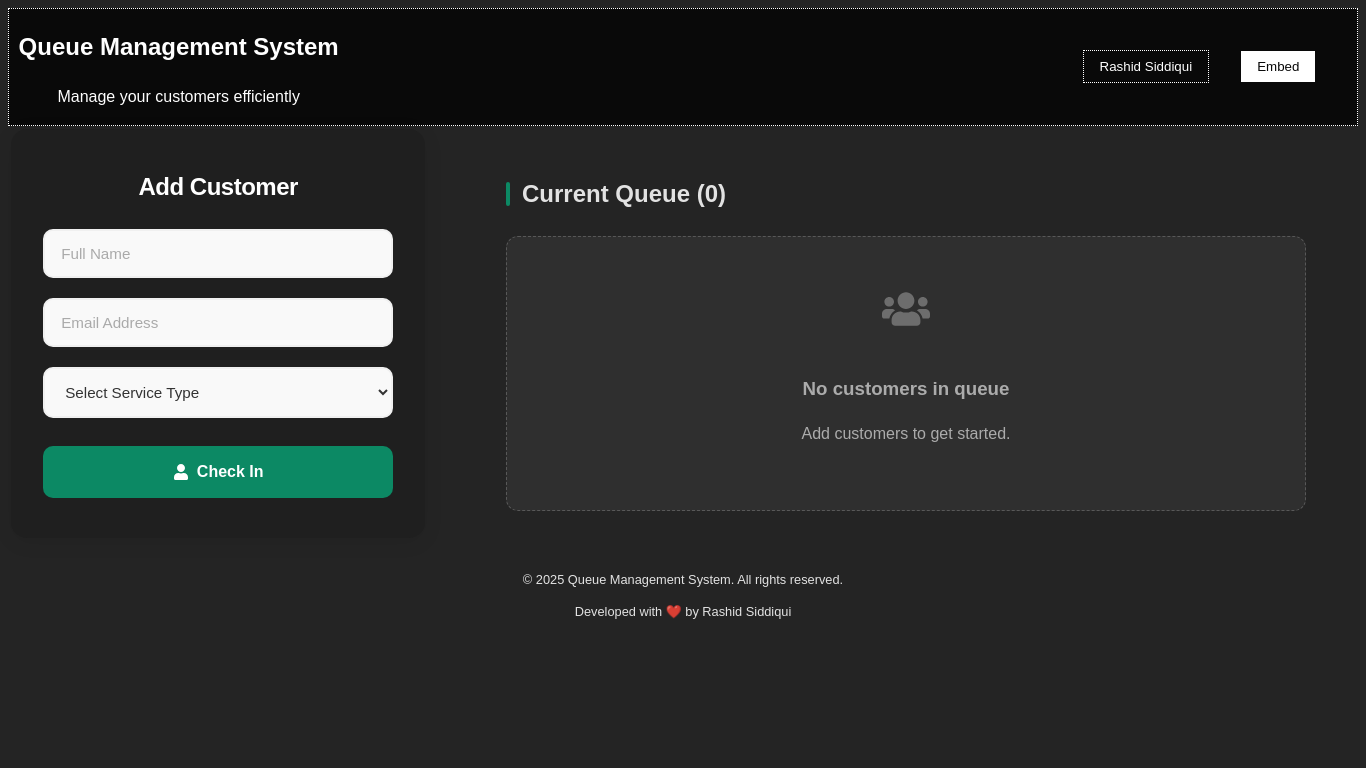
Scenario: Add Customer › should add multiple customers
Type "John Doe" into the field with test id "queue-form-name" at x=218, y=254, box 43,229 -> 393,278
Type "john.doe@example.com" into the field with test id "queue-form-email" at x=218, y=323, box 43,298 -> 393,347
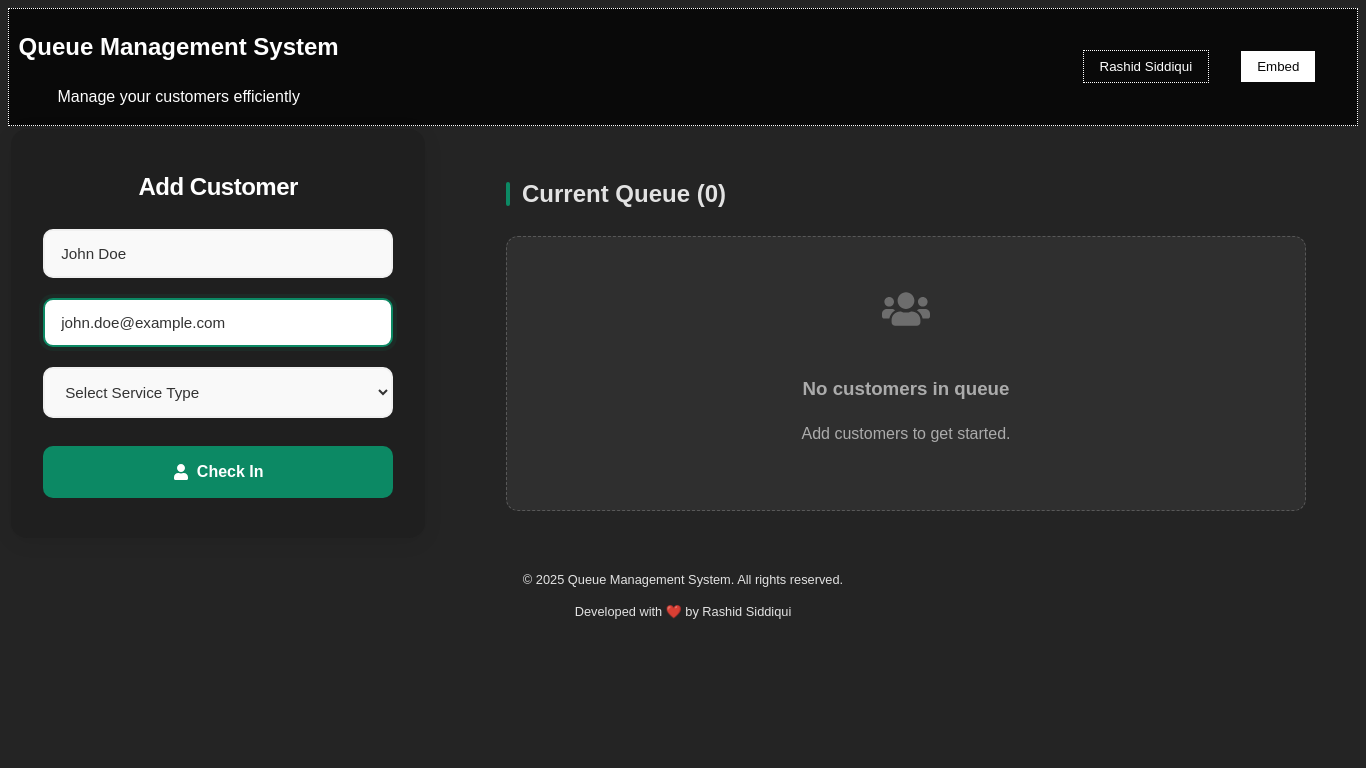
Select "Consultation" in the dropdown with test id "queue-form-service-type" at x=218, y=393, box 43,367 -> 393,418
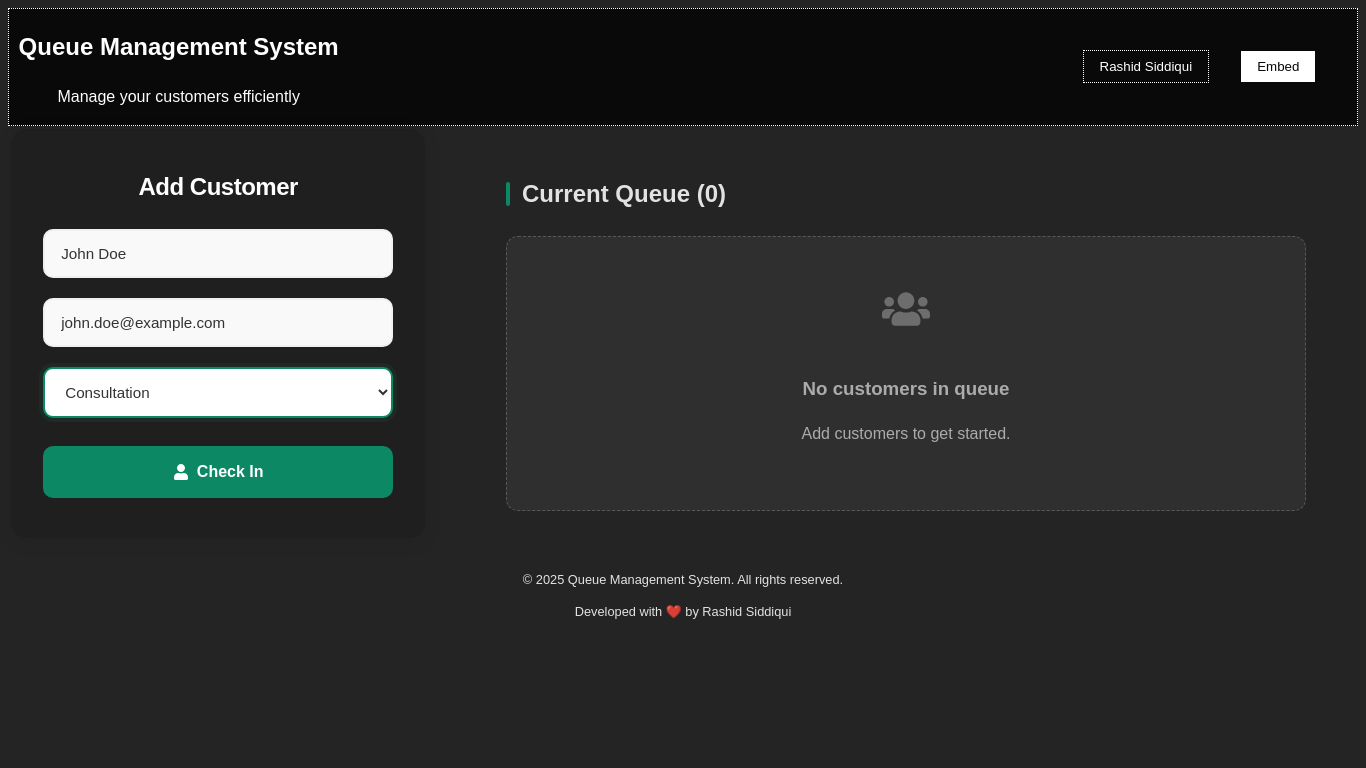
Click the button with test id "queue-form-check-in" at x=218, y=472, box 43,446 -> 393,498
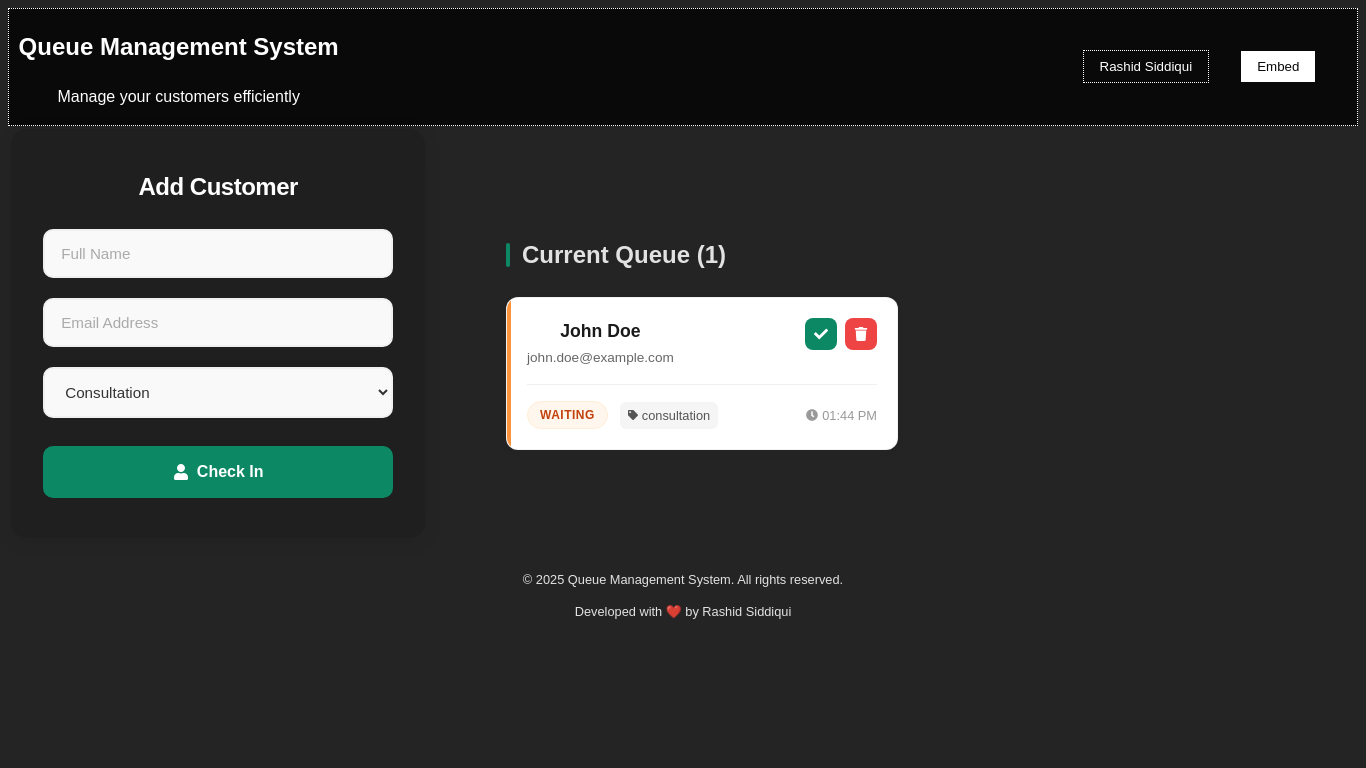
Type "Rashid Siddiqui" into the field with test id "queue-form-name" at x=218, y=254, box 43,229 -> 393,278
Type "rashid.siddiqui@example.com" into the field with test id "queue-form-email" at x=218, y=323, box 43,298 -> 393,347
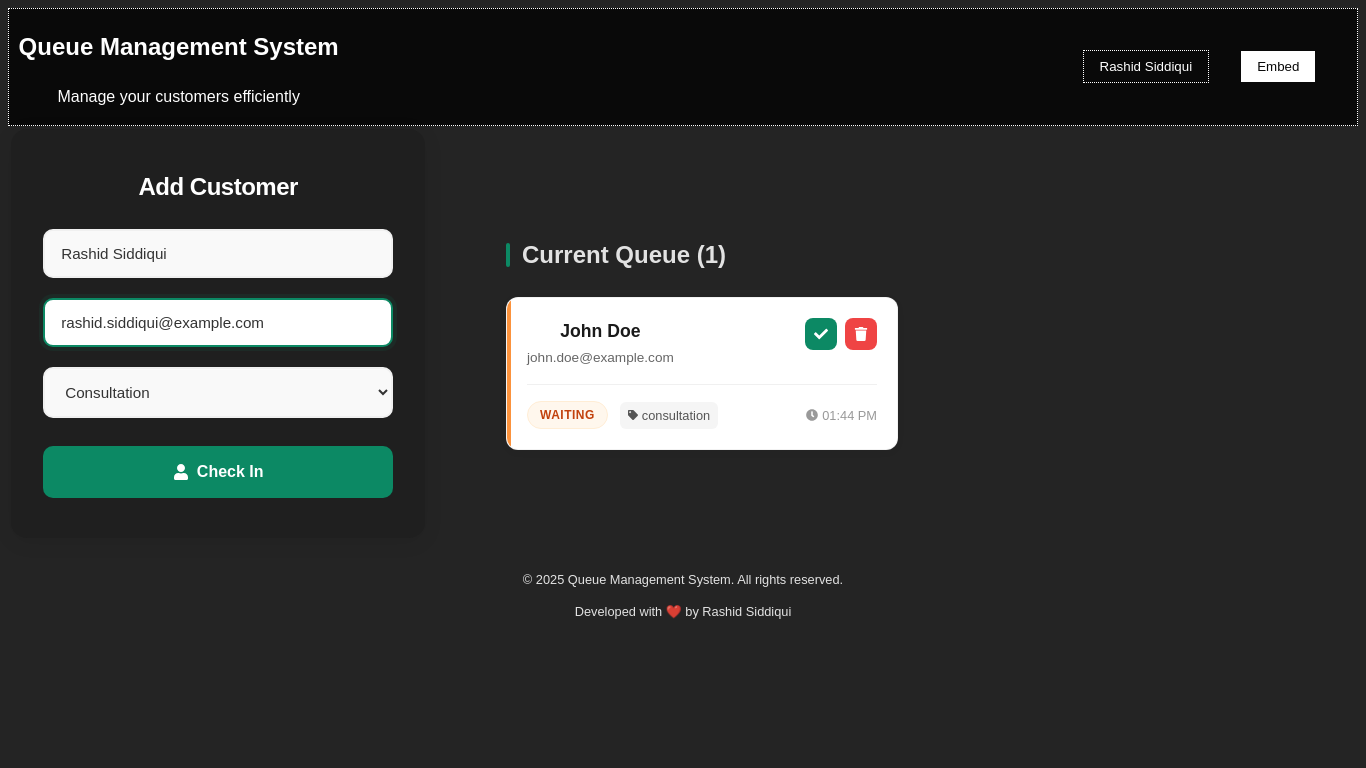
Select "Training" in the dropdown with test id "queue-form-service-type" at x=218, y=393, box 43,367 -> 393,418
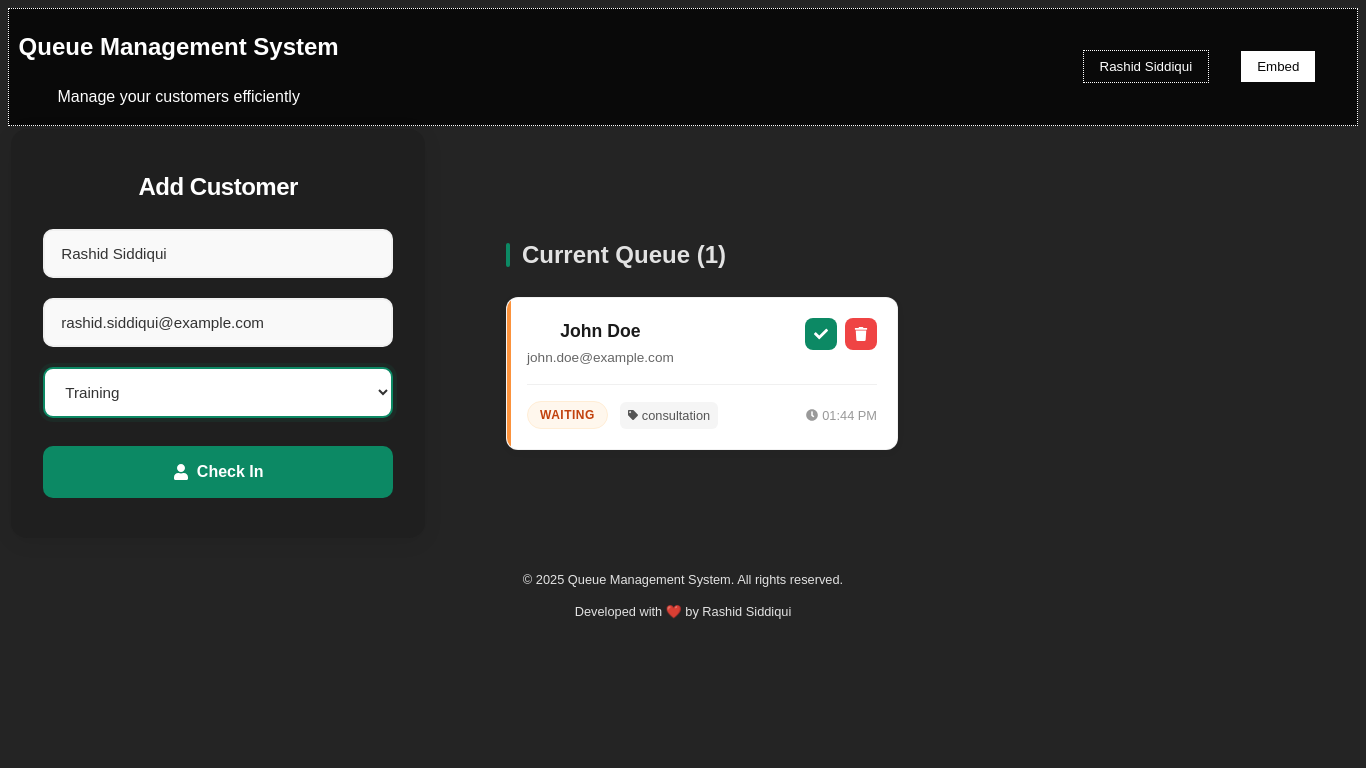
Click the button with test id "queue-form-check-in" at x=218, y=472, box 43,446 -> 393,498
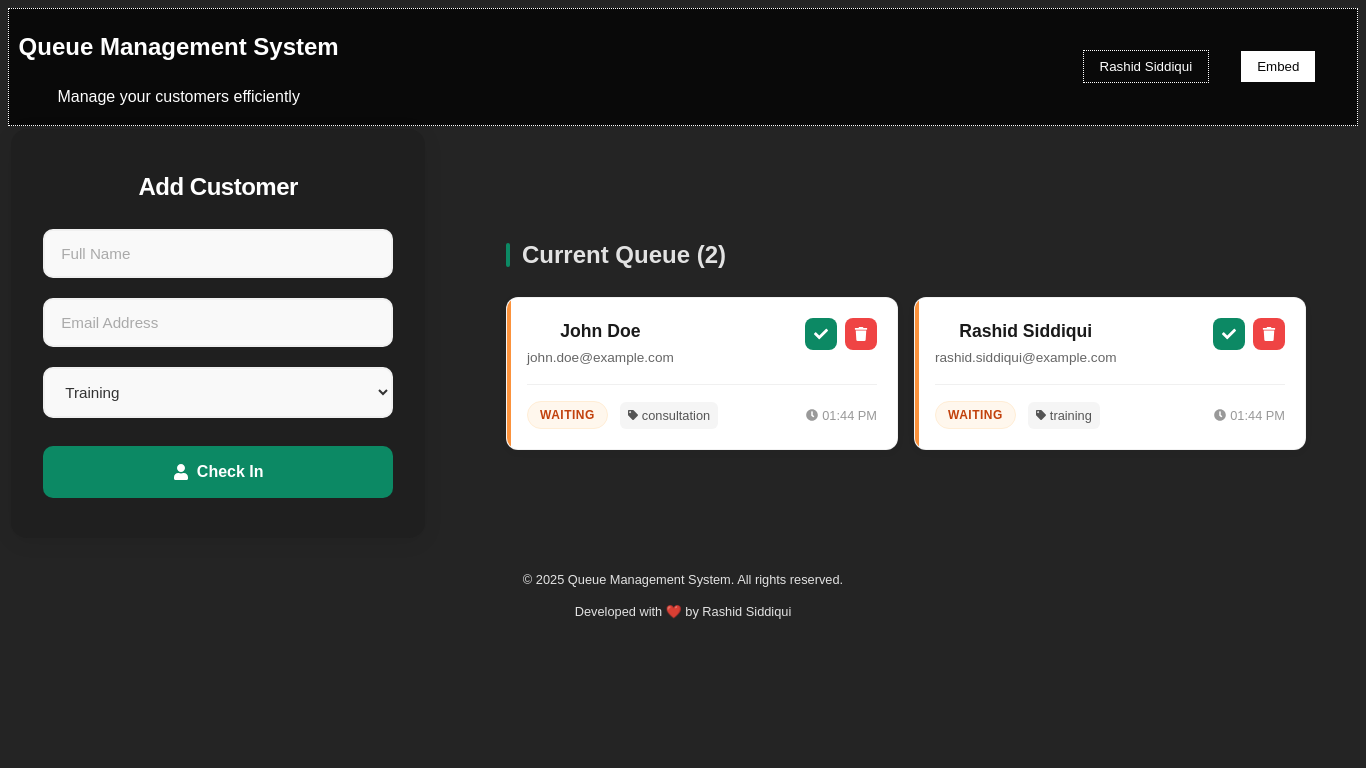
Now the heading with test id "customer-card" reads "John Doe", box 560,321 -> 640,341
Now the heading with test id "queue-title" reads "Current Queue (2)", box 522,241 -> 726,268
Now the heading with test id "customer-card" reads "Rashid Siddiqui", box 959,321 -> 1092,341
